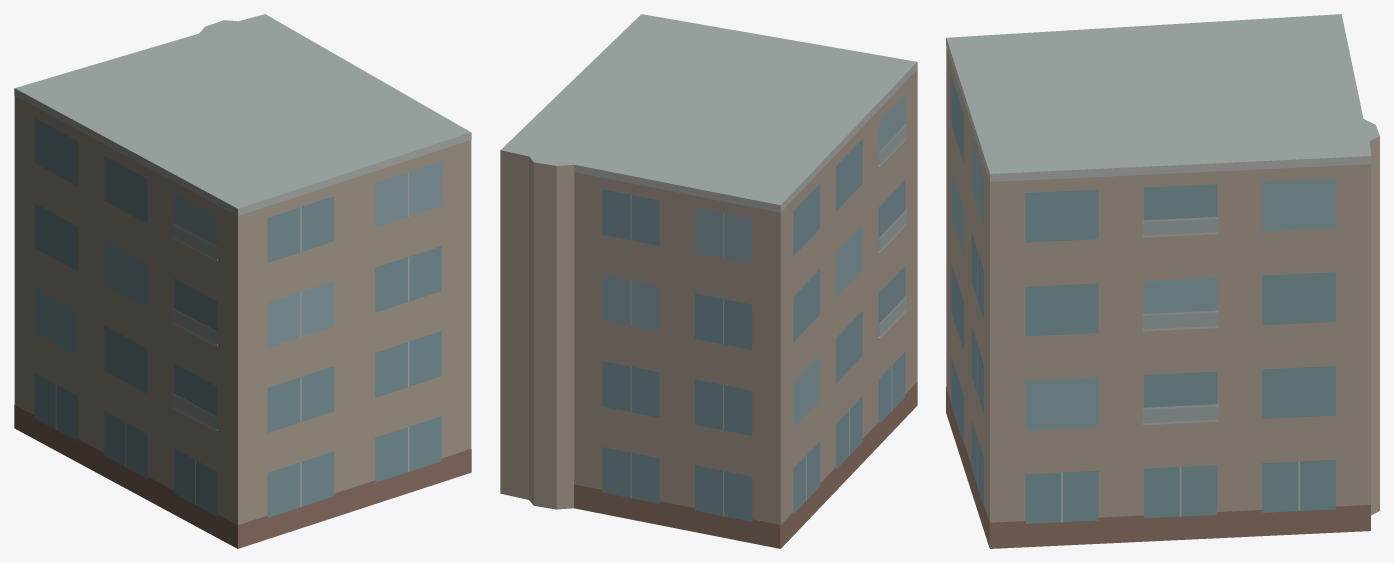
The model's file is survey-upis-32526510.glb.
3 views of the same model, side by side, from view 1: azimuth 30°, elevation 25°; view 2: azimuth 150°, elevation 25°; view 3: azimuth 270°, elevation 25° (orthographic). The views are drawn at different scales.
Visible parts, largest first — view 1: survey-upis-32526510.tmp; view 2: survey-upis-32526510.tmp; view 3: survey-upis-32526510.tmp.
Boxes of the visible parts, x1=… form: survey-upis-32526510.tmp: x1=14, y1=14, x2=471, y2=548; survey-upis-32526510.tmp: x1=500, y1=14, x2=917, y2=548; survey-upis-32526510.tmp: x1=946, y1=14, x2=1379, y2=548.
Size of the model in its own units: 10.35 by 11.3 by 11.86.
